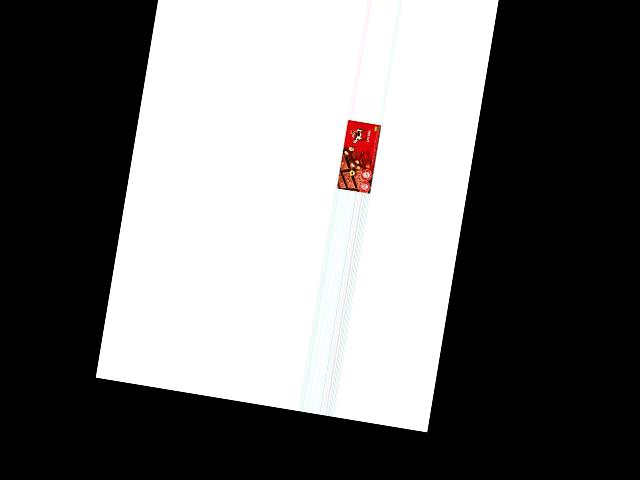chocolate: (336, 119, 382, 194)
